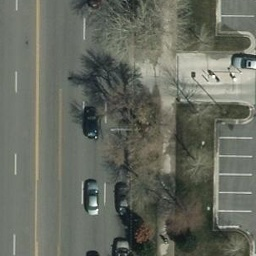car: (113, 181, 133, 213), (82, 107, 100, 142), (84, 182, 101, 214)
